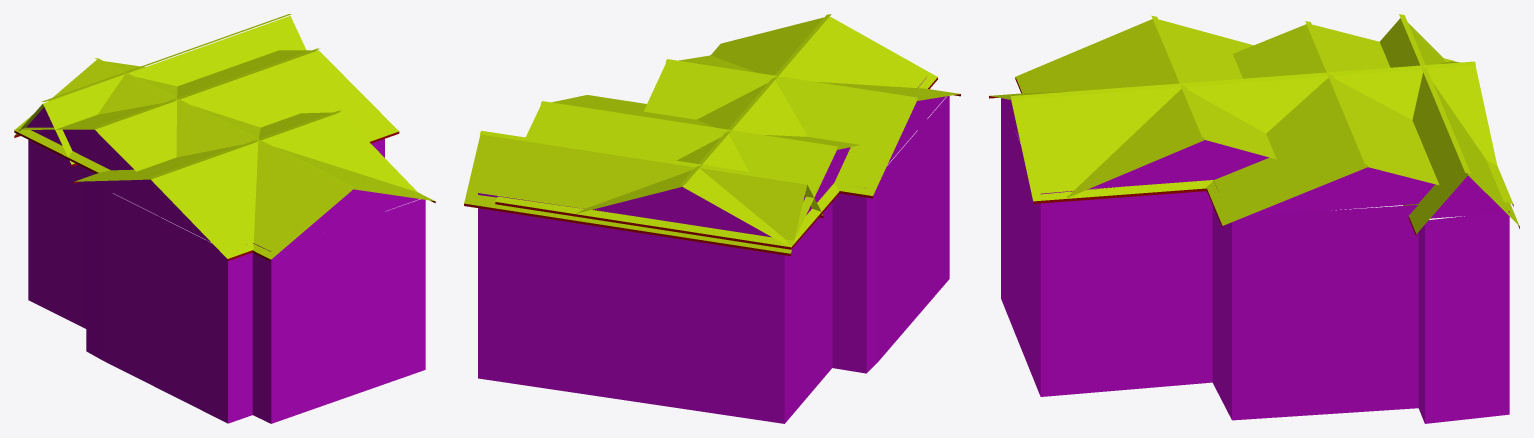
File: sjs_65.glb
3 views of the same model, side by side, from view 1: azimuth 30°, elevation 25°; view 2: azimuth 150°, elevation 25°; view 3: azimuth 270°, elevation 25° (orthographic). The views are drawn at different scales.
Visible parts, largest first — view 1: sjs_65; view 2: sjs_65; view 3: sjs_65.
Part boxes in pixels (x1,y1,x2,y2): sjs_65: [14, 14, 435, 423]; sjs_65: [464, 14, 960, 423]; sjs_65: [989, 14, 1519, 423].
Bounding box in the file's own units: 16.39 × 11.2 × 21.46.
